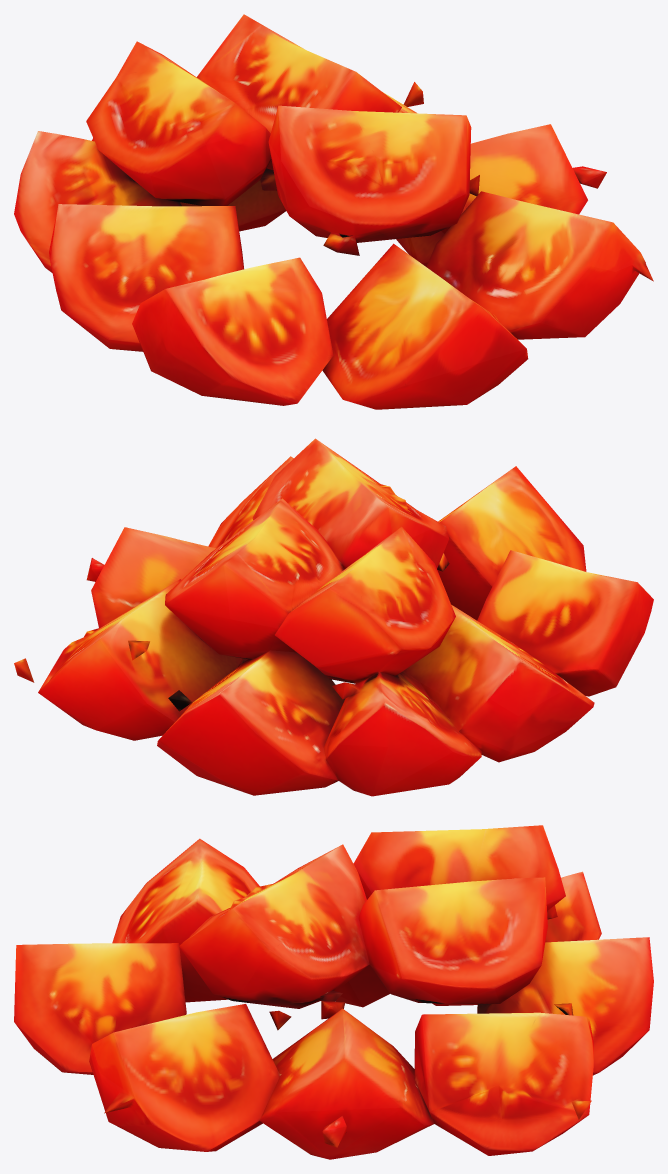
Rendered from base_basic_shaded.fbx.
3 views of the same model, one above another, from view 1: azimuth 30°, elevation 25°; view 2: azimuth 150°, elevation 25°; view 3: azimuth 270°, elevation 25° (orthographic). The views are drawn at different scales.
Visible parts, largest first — view 1: model; view 2: model; view 3: model.
Boxes of the visible parts, x1=… form: model: x1=14, y1=14, x2=653, y2=409; model: x1=14, y1=438, x2=653, y2=796; model: x1=14, y1=825, x2=653, y2=1159.
Bounding box in the file's own units: 164 × 58.25 × 175.
